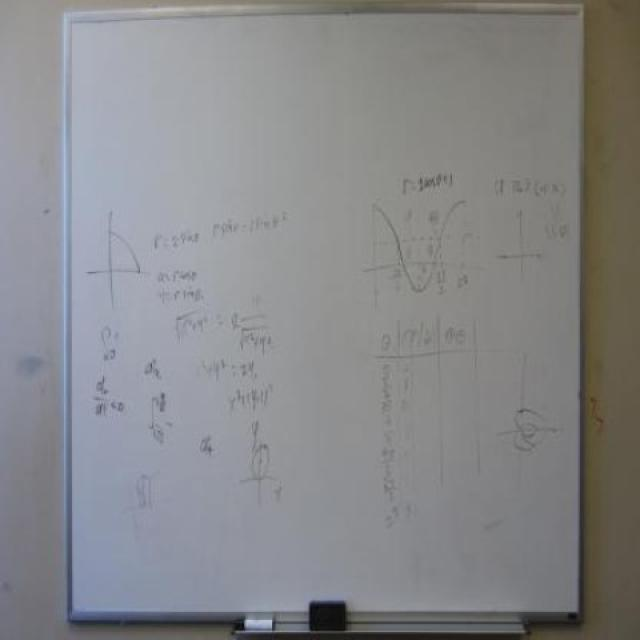White-board: (67, 10, 583, 618)
